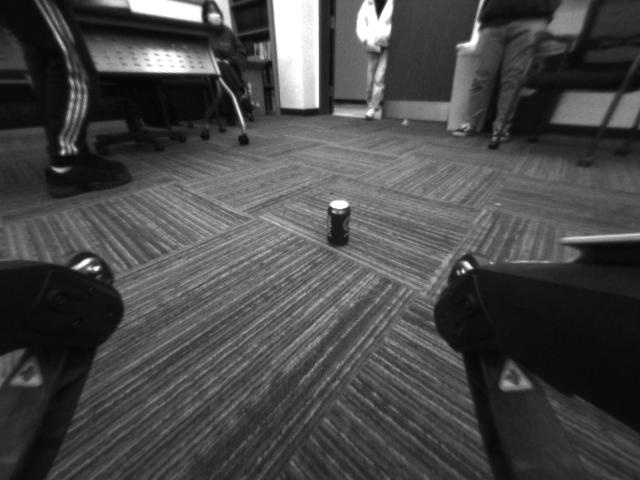can: (320, 194, 359, 251)
